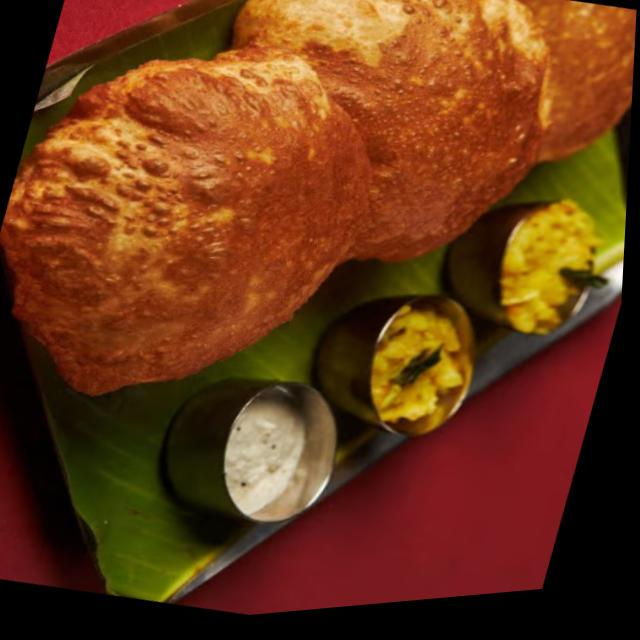CURRY: (502, 194, 599, 333), (371, 306, 459, 424)
POORI: (0, 0, 637, 397)
WHITE CHUTNEY: (225, 389, 308, 516)
